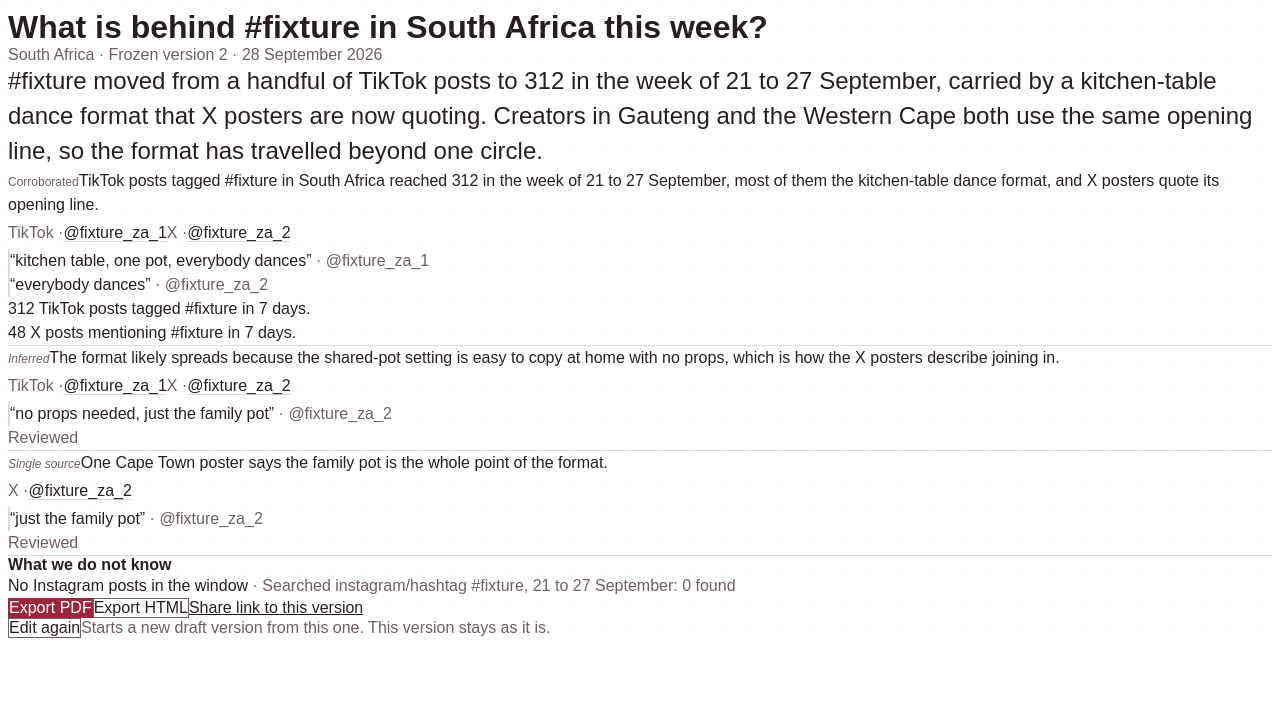
Edit again on a frozen version another tab has moved past shows the server's words and Reload, which opens the latest version
What coordinates should you click on to do the following:
click the button "Edit again"
I would click on:
 (45, 628)
Its box is [8,618,81,638].
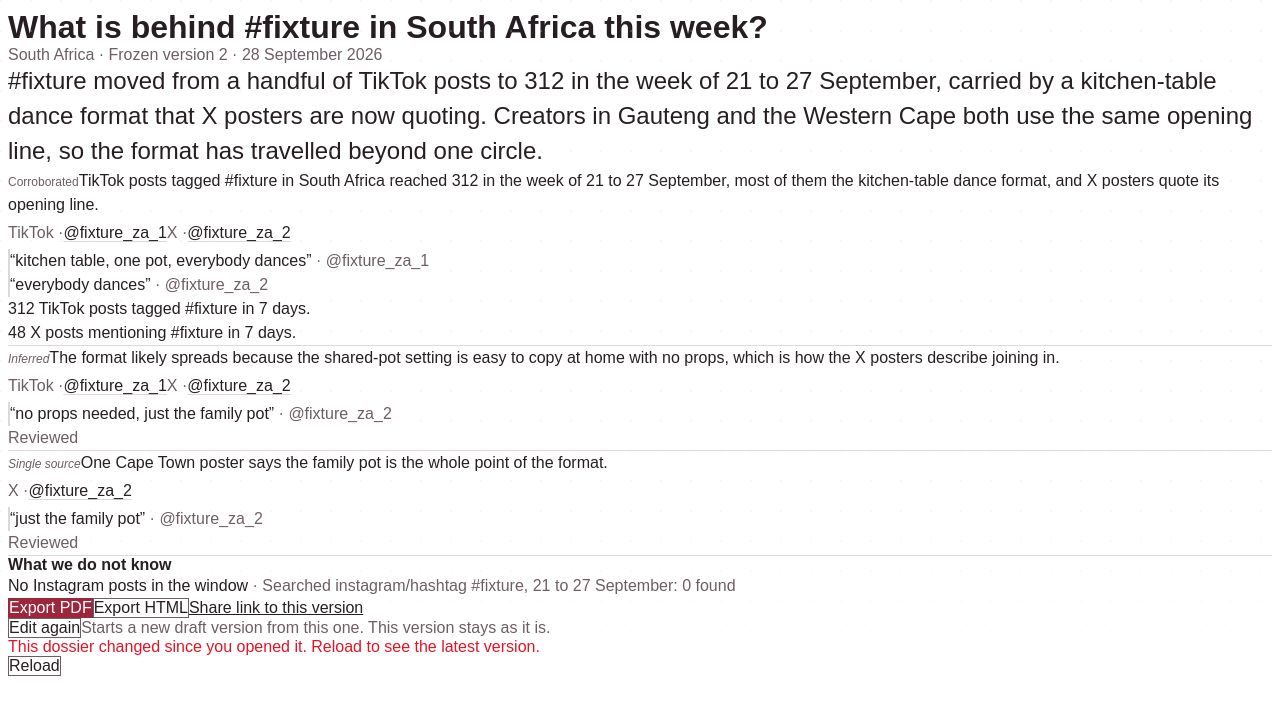
Expected: the text "Frozen version 2" is shown, [8,46,382,63]
Expected: the message shows "This dossier changed since you opened it. Reload to see the latest version.", [8,638,540,655]
Expected: the button "Reload" is shown
What coordinates should you click on to do the following:
click the button "Reload"
I would click on:
 (34, 666)
Its box is [8,656,61,676].
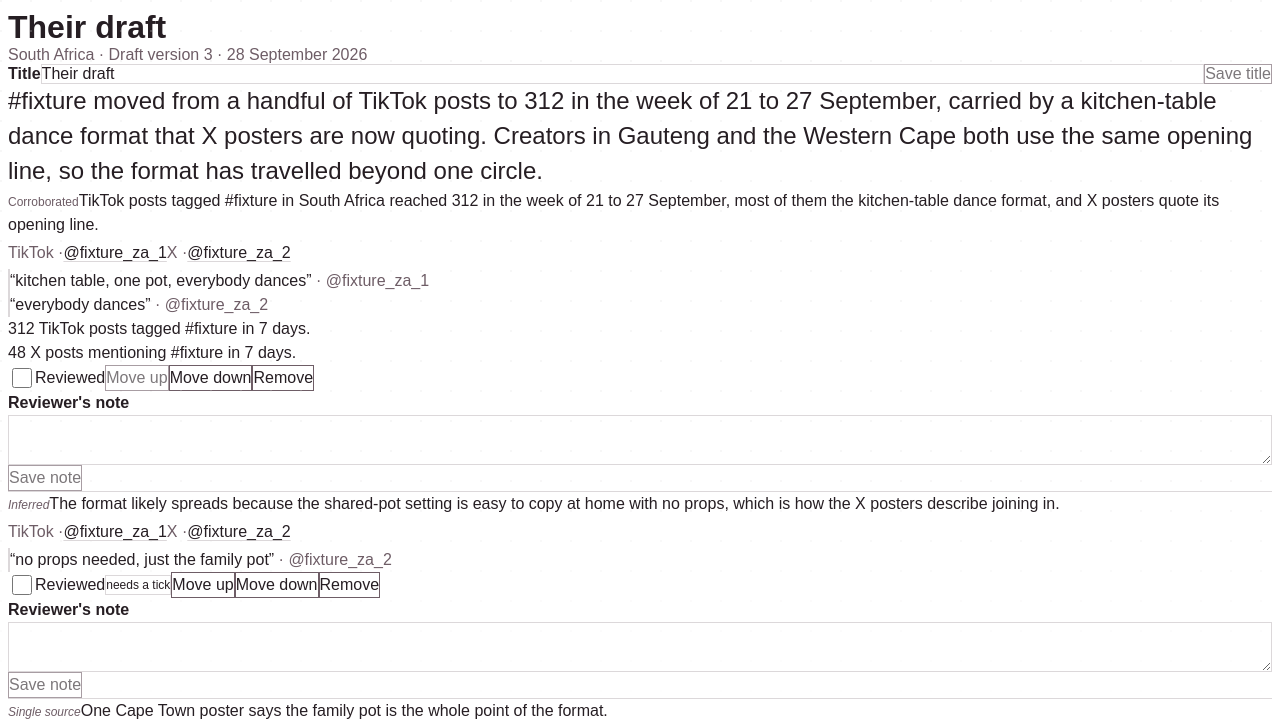
Expected: the heading "Their draft" is shown, [8,9,166,45]
Expected: the message is gone
